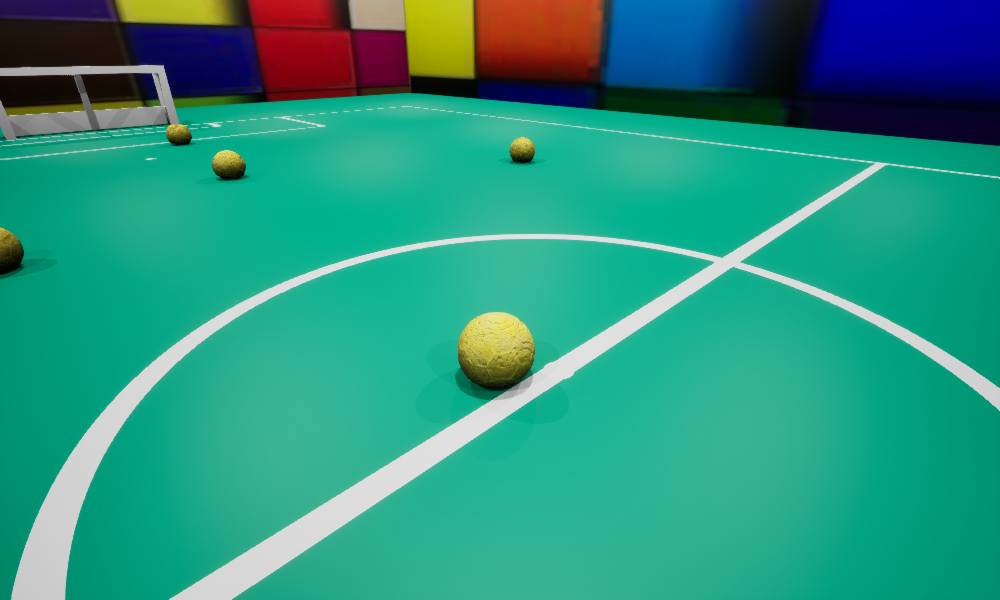b: (458, 312, 534, 388), (0, 227, 23, 271), (212, 150, 245, 179), (509, 137, 534, 162), (166, 123, 191, 143)
g: (0, 65, 178, 139)
